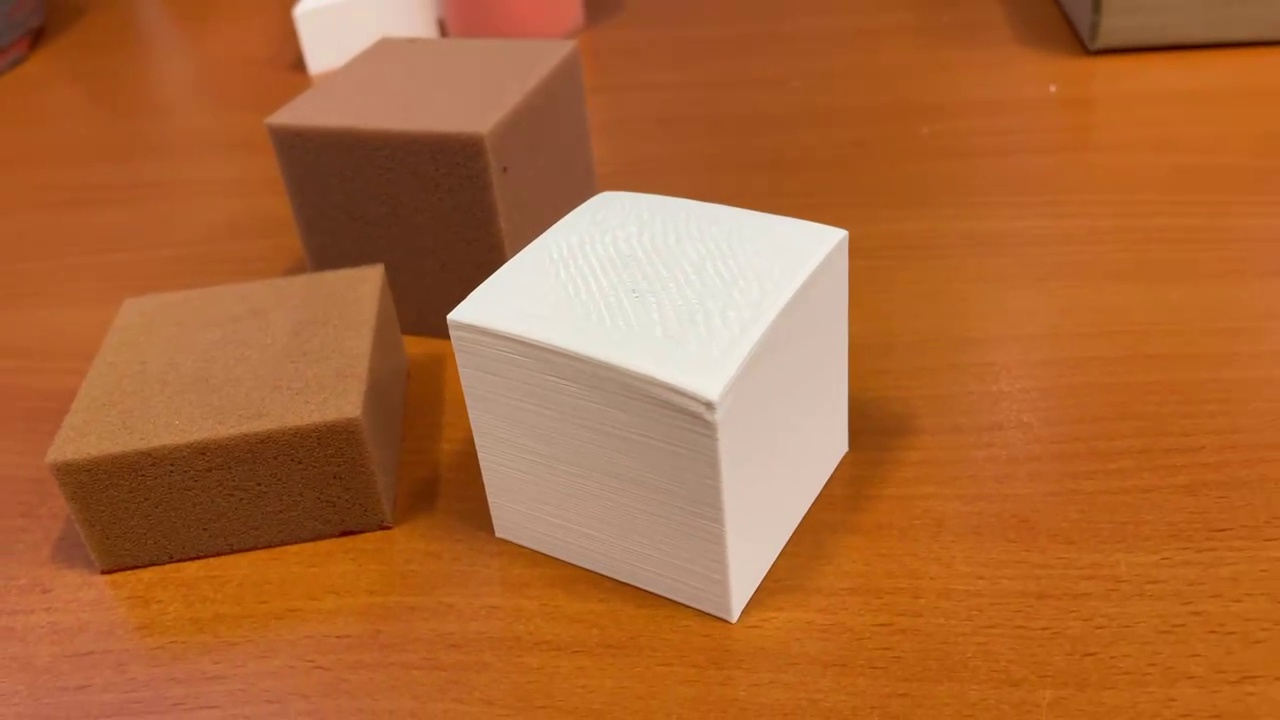Cube: (442, 184, 863, 631), (263, 34, 600, 340)
Cube_short: (47, 264, 412, 582)
